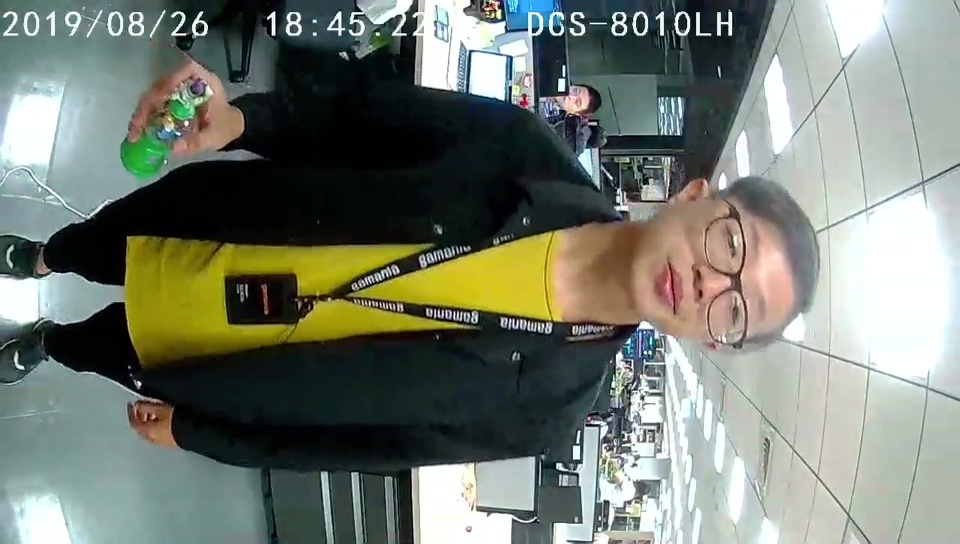buzz: (118, 75, 217, 178)
